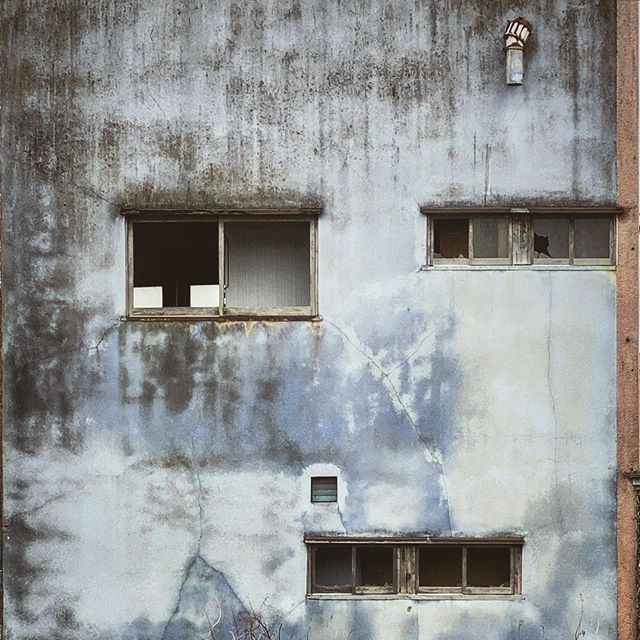building: (23, 1, 628, 632)
window: (119, 209, 326, 336), (296, 528, 523, 606), (432, 202, 627, 276)
